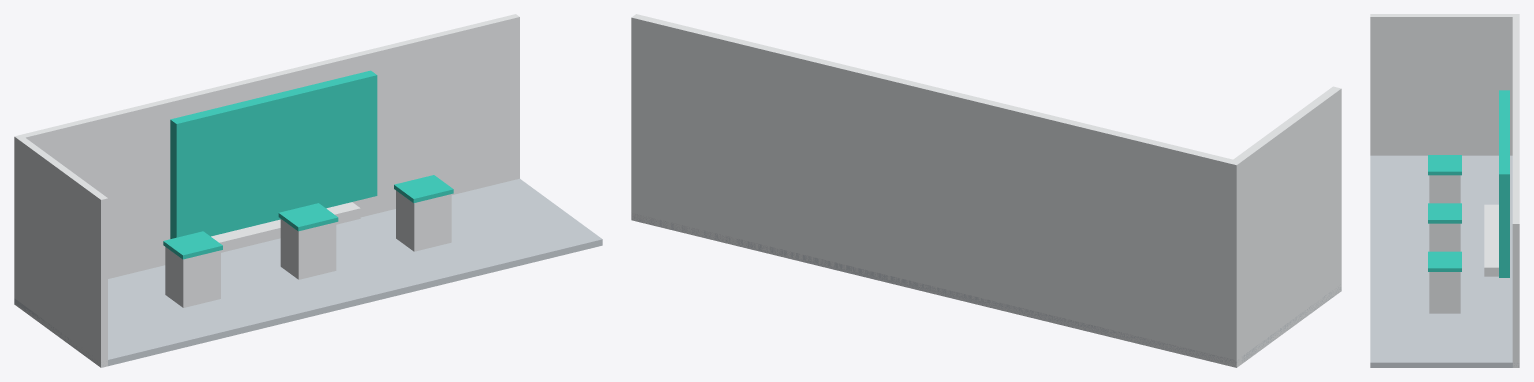
The picture shows the model from 3 angles, left to right: view 1: azimuth 30°, elevation 25°; view 2: azimuth 150°, elevation 25°; view 3: azimuth 270°, elevation 25°; orthographic projection. The views are drawn at different scales.
Parts seen in each view (by area): view 1: Exhibition Booth Concept; view 2: Exhibition Booth Concept; view 3: Exhibition Booth Concept.
Part boxes in pixels (<box>): Exhibition Booth Concept: <box>14,14,602,367</box>; Exhibition Booth Concept: <box>631,14,1341,367</box>; Exhibition Booth Concept: <box>1370,14,1519,367</box>.
Size of the model in its own units: 10 by 3.2 by 3.
